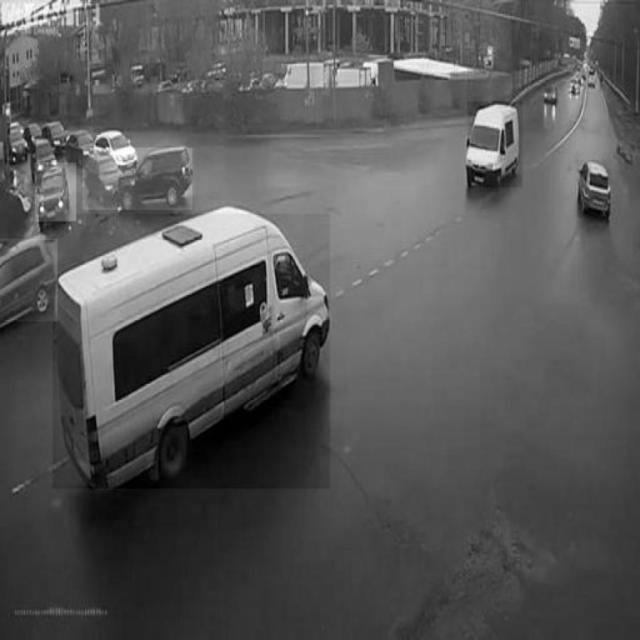accident: (82, 148, 192, 210)
vehicle: (53, 214, 331, 488), (467, 102, 523, 188), (0, 239, 57, 321), (35, 163, 76, 221), (575, 159, 611, 217)
